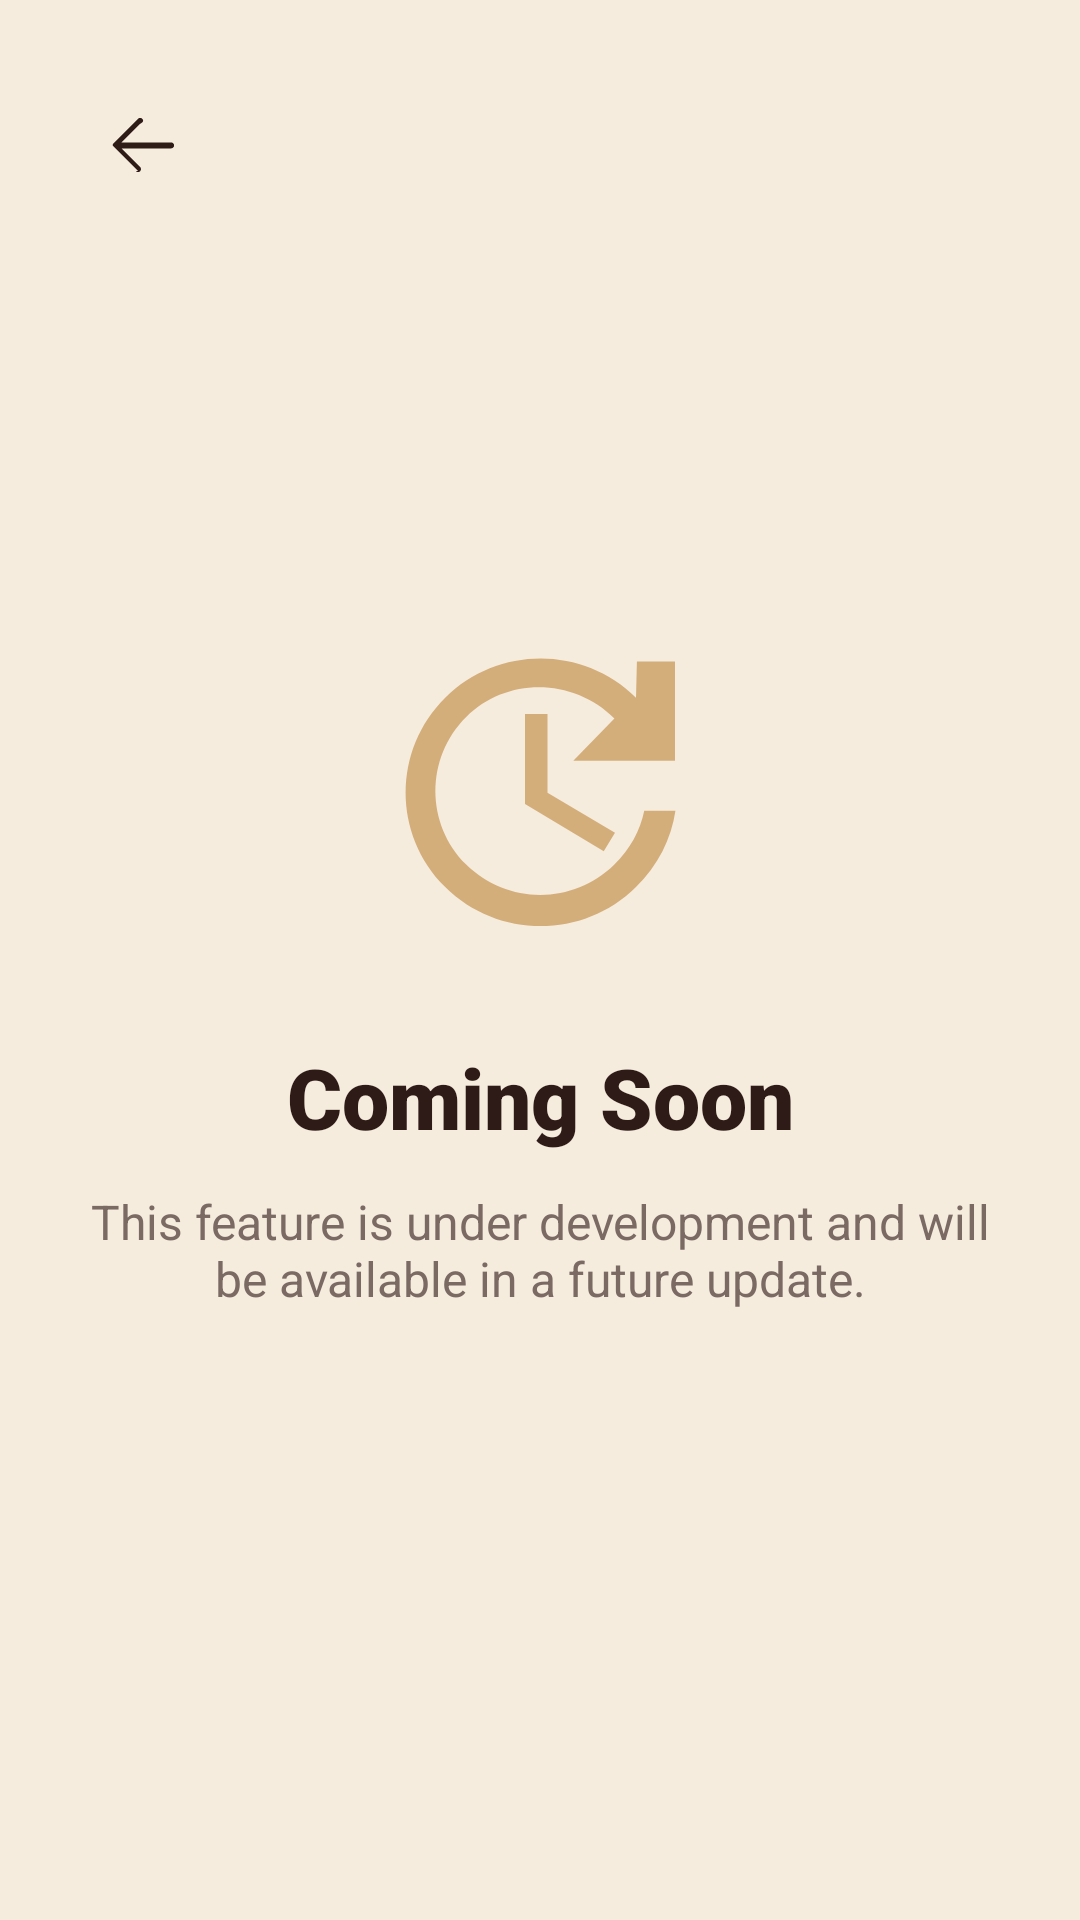

Named icons in this screenshot (1080*1920) and their bounding boxes, box=[x1, y1, x2, y2]:
arrow back rounded: box=[112, 118, 174, 172]
update rounded: box=[405, 658, 676, 926]
